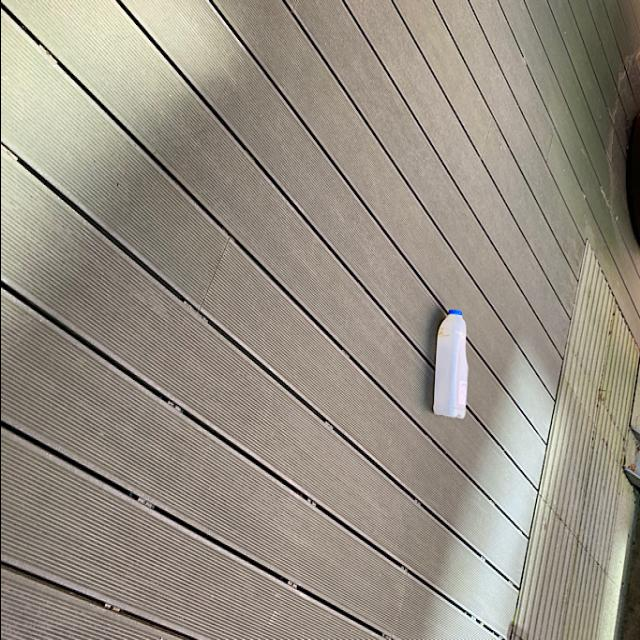HDPEM: (430, 306, 472, 422)
